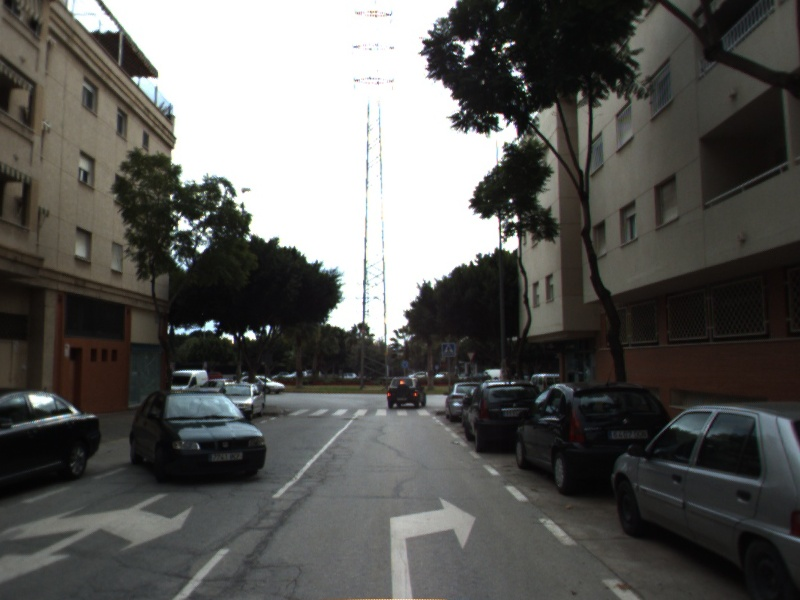RIGHT: (387, 492, 479, 600)
